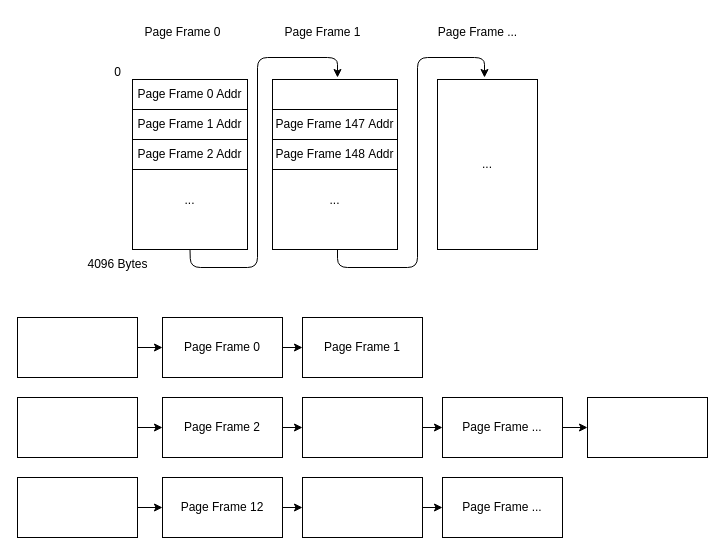
This 725x555 diagram has some shape labels left out. The shapes that lost their labels are listed below. From the top down, each one's box as (x1, y1, x2, y2) in pixels, then its label:
(272, 78, 398, 110): Page Frame 146 Addr
(16, 316, 138, 378): Allocated Page Frames
(16, 396, 138, 458): Reserved Page Frames
(302, 396, 422, 458): Page Frame 3
(586, 396, 708, 458): Page Frame 11
(16, 476, 138, 538): Available Page Frames
(302, 476, 422, 538): Page Frame 13
